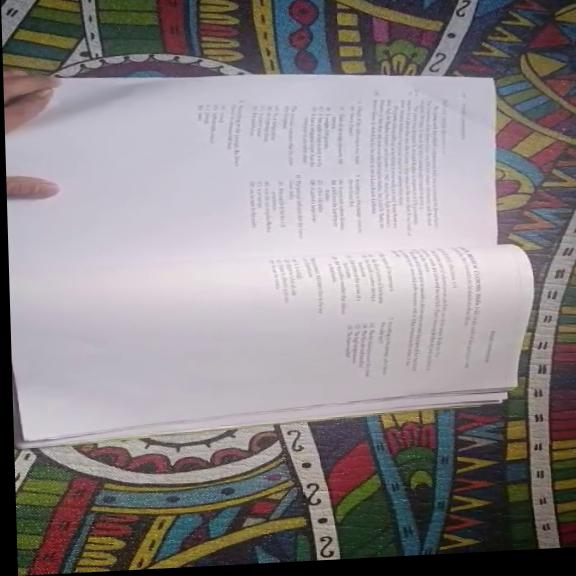Kertas: (62, 78, 495, 295), (8, 244, 504, 426)
